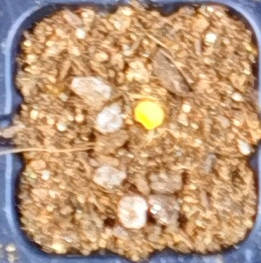pepper seed: (50, 34, 216, 167)
